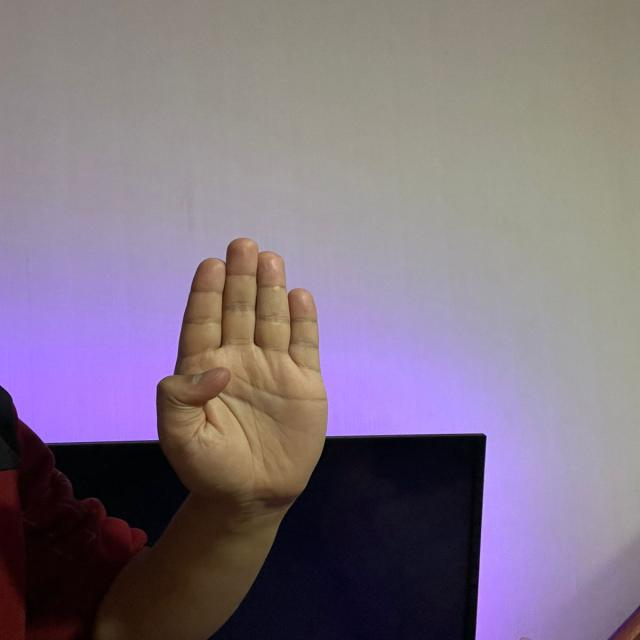B: (153, 231, 330, 502)
